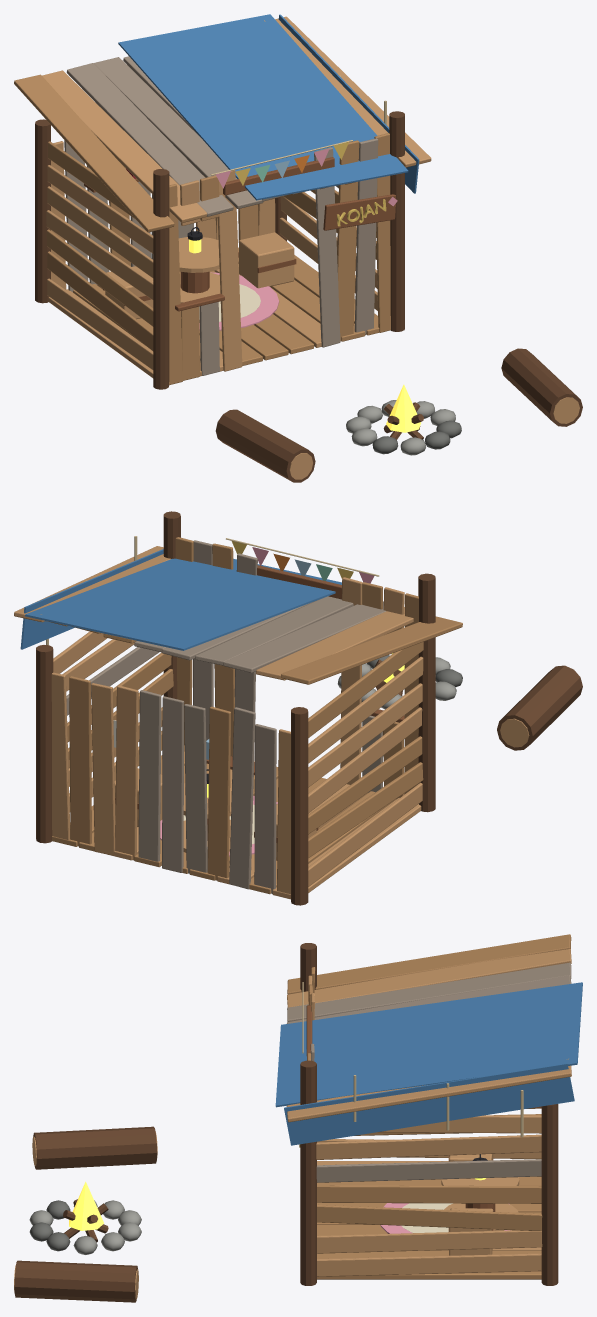
Rendered from koja.glb.
3 renders of one model, top to bottom at view 1: azimuth 30°, elevation 25°; view 2: azimuth 150°, elevation 25°; view 3: azimuth 270°, elevation 25°, orthographic. The views are drawn at different scales.
Visible parts, largest first — view 1: tarp, roof_0, roof_2, roof_3, roof_1, post, front_3, Log_Seat_A, front_8, post.001, front_10, Log_Seat_B (+33 smaller); view 2: tarp, back_2, back_5, back_6, back_8, back_7, back_3, back_4, back_9, back_1, post.002, roof_0 (+35 smaller); view 3: tarp, tarp_hang, Log_Seat_B, Log_Seat_A, side_1_0, side_1_1, side_1_3, side_1_5, side_1_2, side_1_4, roof_1, roof_0 (+17 smaller).
Part boxes in pixels (box(x1,y1,x2,y2)): tarp: box(118, 14, 408, 200); roof_0: box(14, 74, 174, 232); roof_2: box(66, 63, 233, 216); roof_3: box(93, 57, 263, 208); roof_1: box(42, 70, 207, 222); post: box(153, 169, 169, 389); front_3: box(217, 170, 242, 371); Log_Seat_A: box(215, 409, 315, 482); front_8: box(314, 147, 340, 347); post.001: box(389, 111, 404, 331); front_10: box(354, 138, 378, 334); Log_Seat_B: box(501, 348, 582, 426); tarp: box(25, 558, 341, 650); back_2: box(229, 707, 255, 889); back_5: box(162, 696, 184, 872); back_6: box(138, 690, 161, 861); back_8: box(91, 683, 115, 855); back_7: box(115, 685, 138, 860); back_3: box(207, 706, 230, 880); back_4: box(184, 704, 207, 873); back_9: box(69, 676, 91, 846); back_1: box(254, 724, 276, 893); post.002: box(291, 707, 308, 905); roof_0: box(281, 616, 462, 684); tarp: box(275, 982, 582, 1107); tarp_hang: box(284, 1063, 574, 1145); Log_Seat_B: box(14, 1260, 137, 1302); Log_Seat_A: box(33, 1126, 157, 1169); side_1_0: box(317, 1253, 541, 1276); side_1_1: box(317, 1230, 542, 1253); side_1_3: box(317, 1185, 541, 1203); side_1_5: box(316, 1134, 541, 1159); side_1_2: box(317, 1204, 542, 1230); side_1_4: box(316, 1159, 541, 1182); roof_1: box(287, 949, 571, 1007); roof_0: box(287, 934, 571, 994).
Bounding box in the file's own units: 3.96 × 2.77 × 6.13.
